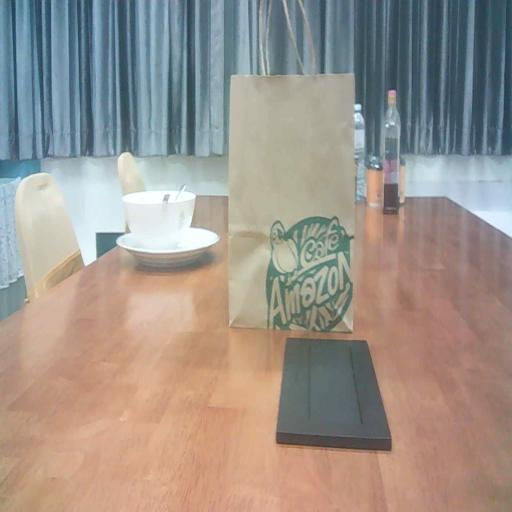bag: (226, 56, 360, 339)
